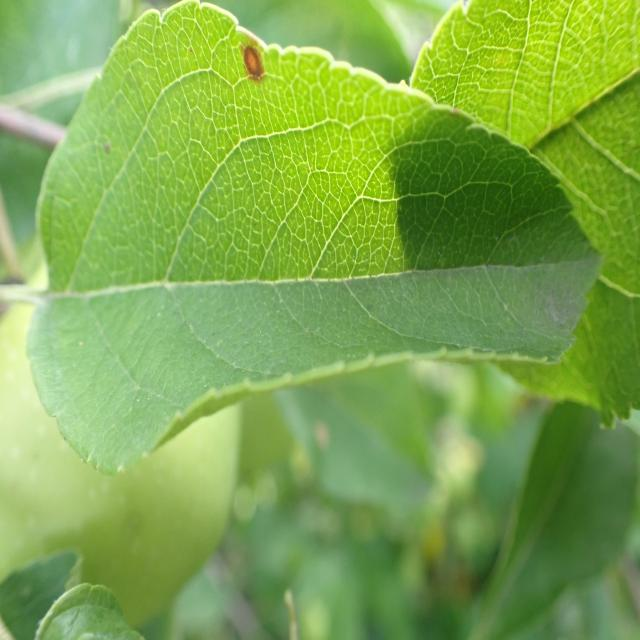frog-eye-leaf-spot: (24, 0, 604, 477)
